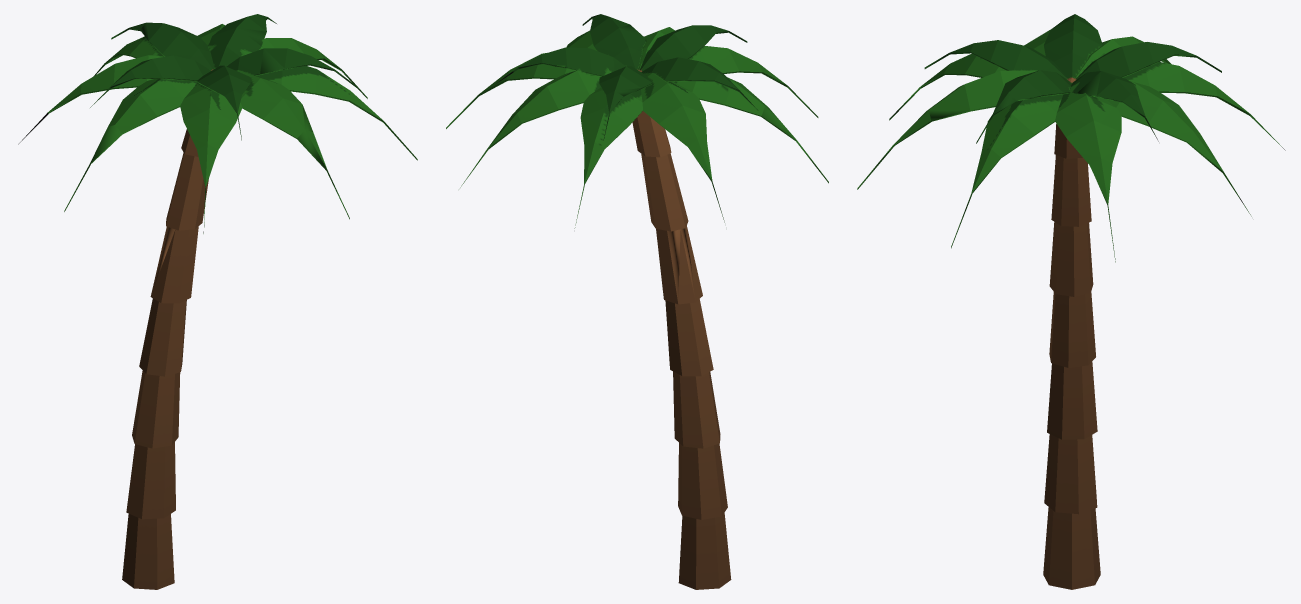
Rendered from bench_palm_tree_v2.fbx.
The picture shows the model from 3 angles, left to right: view 1: azimuth 30°, elevation 25°; view 2: azimuth 150°, elevation 25°; view 3: azimuth 270°, elevation 25°; orthographic projection. The views are drawn at different scales.
Visible parts, largest first — view 1: main; view 2: main; view 3: main.
Boxes of the visible parts, box(x1,y1,x2,y2) form: main: box(18, 14, 417, 589); main: box(446, 14, 828, 589); main: box(857, 14, 1285, 589).
Size of the model in its own units: 412 by 594 by 412.
Materials: 1 (1 with a texture image).
